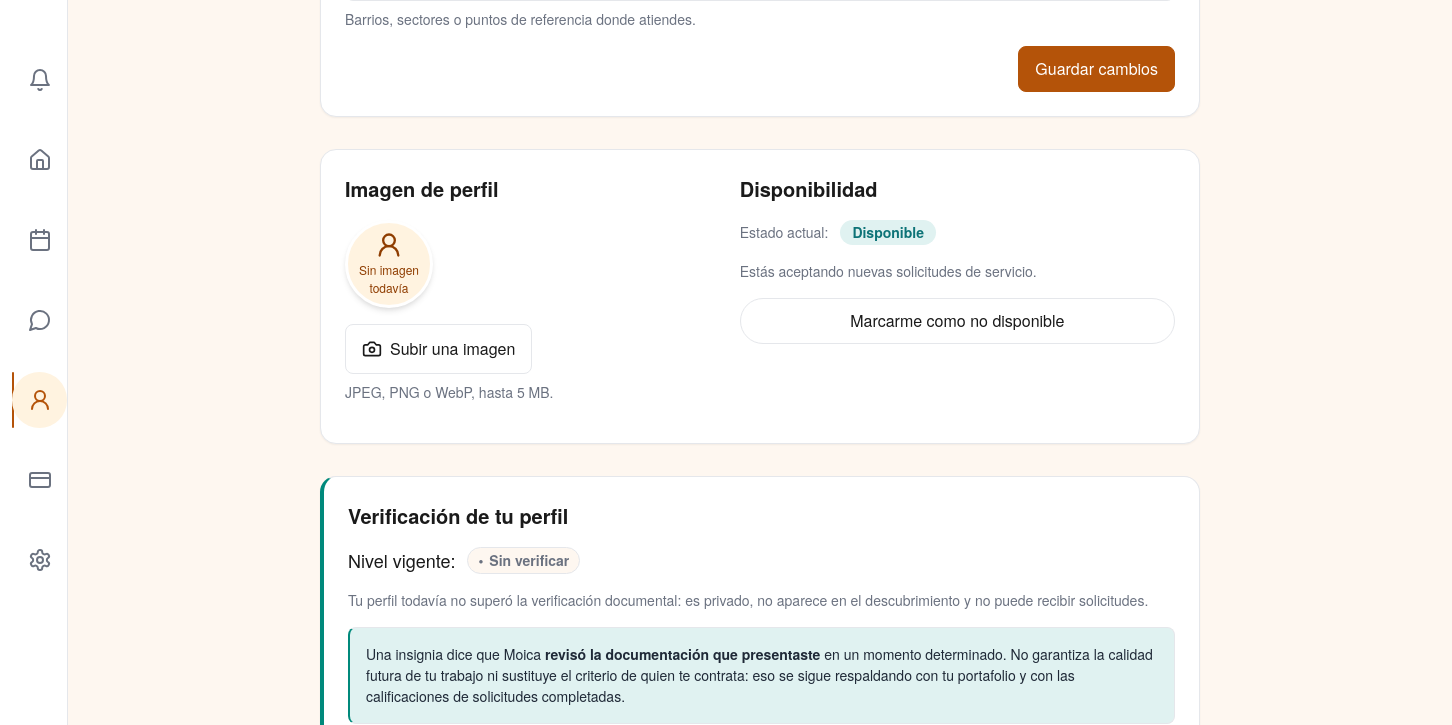
Test: Perfil de prestador › alterna la disponibilidad y refleja el estado devuelto
(page scrolled)
Click the button "Marcarme como no disponible" at (957, 320), box [740, 298, 1175, 344]
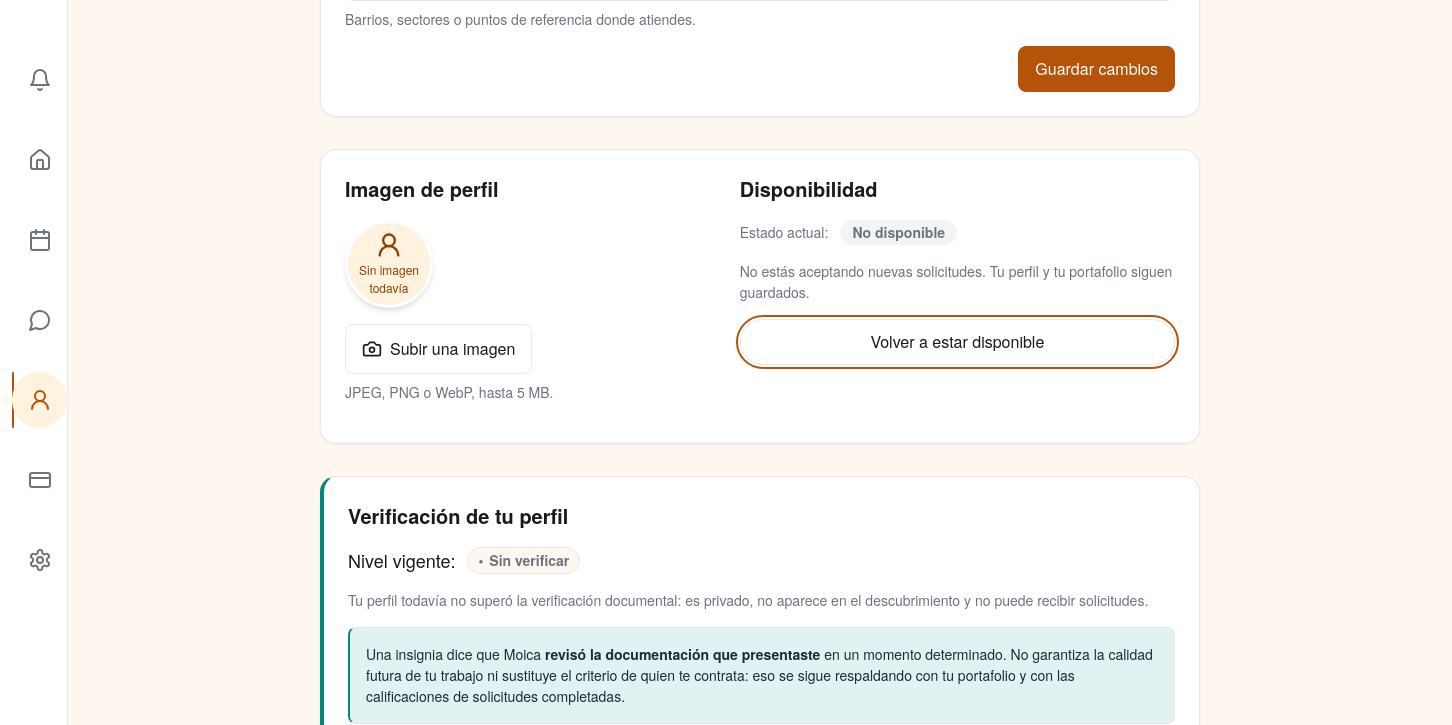
expect the text "No disponible" is shown: met, box [840, 220, 957, 244]
expect the button "Volver a estar disponible" is shown: met, box [740, 318, 1175, 364]
